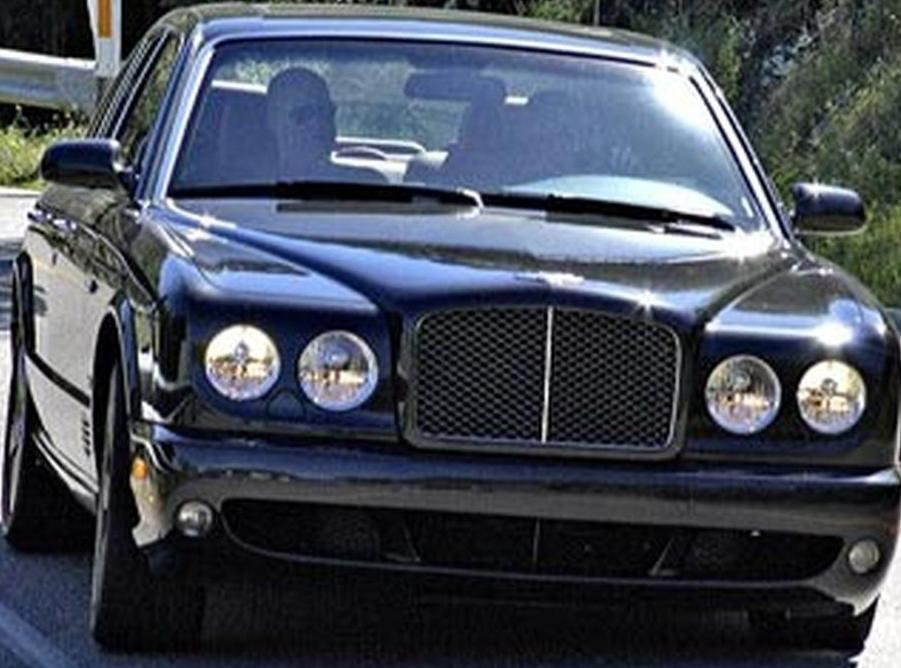front_view: (169, 277, 897, 611)
headlight: (172, 306, 389, 430)
side_glass: (81, 16, 186, 201)
